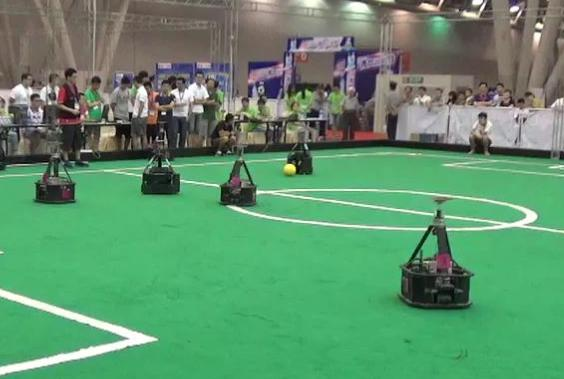robot: (392, 187, 480, 314), (23, 134, 87, 204), (211, 140, 263, 212), (132, 132, 186, 201), (278, 121, 324, 182)
